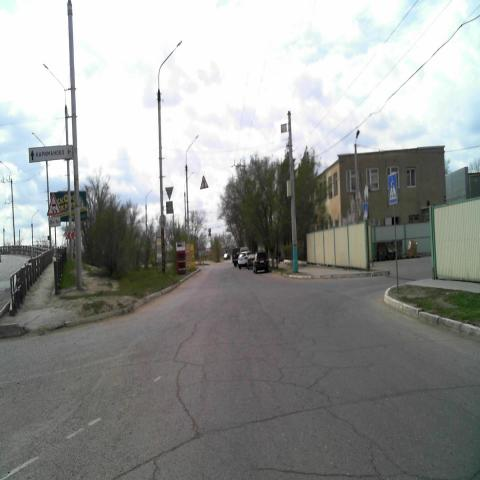1_15: (47, 194, 60, 215)
8_5_4: (48, 216, 60, 227)
